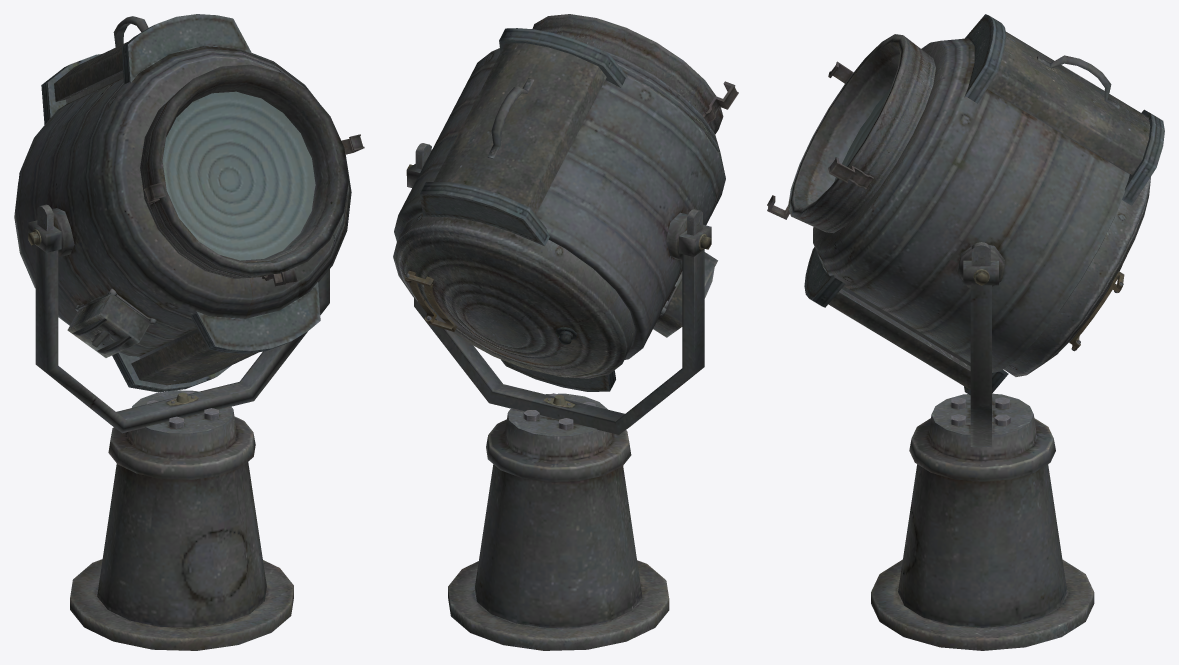
Rendered from sm35_031_searchlight01a.fbx.
3 views of the same model, side by side, from view 1: azimuth 30°, elevation 25°; view 2: azimuth 150°, elevation 25°; view 3: azimuth 270°, elevation 25° (orthographic).
Visible parts, largest first — view 1: LOD_1_Group_1_Sub_1__sm35_031_SearchLight01A_A_Mat1, LOD_1_Group_0_Sub_1__sm35_031_SearchLight01A_A_Mat1; view 2: LOD_1_Group_1_Sub_1__sm35_031_SearchLight01A_A_Mat1; view 3: LOD_1_Group_1_Sub_1__sm35_031_SearchLight01A_A_Mat1, LOD_1_Group_0_Sub_1__sm35_031_SearchLight01A_A_Mat1.
Boxes of the visible parts, <box> form: LOD_1_Group_1_Sub_1__sm35_031_SearchLight01A_A_Mat1: <box>14,14,364,650</box>; LOD_1_Group_0_Sub_1__sm35_031_SearchLight01A_A_Mat1: <box>162,91,315,260</box>; LOD_1_Group_1_Sub_1__sm35_031_SearchLight01A_A_Mat1: <box>393,14,738,650</box>; LOD_1_Group_1_Sub_1__sm35_031_SearchLight01A_A_Mat1: <box>767,14,1164,650</box>; LOD_1_Group_0_Sub_1__sm35_031_SearchLight01A_A_Mat1: <box>834,87,891,181</box>.
Bounding box in the file's own units: 1.11 × 2.05 × 1.28.
